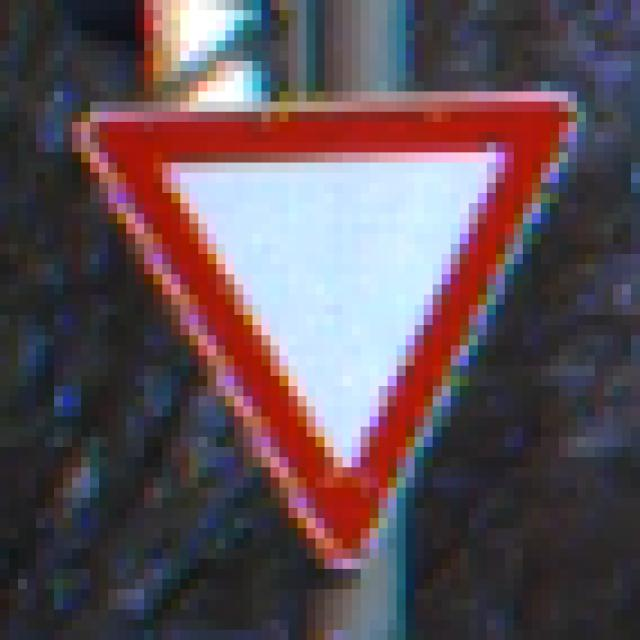Give Way: (64, 62, 587, 590)
